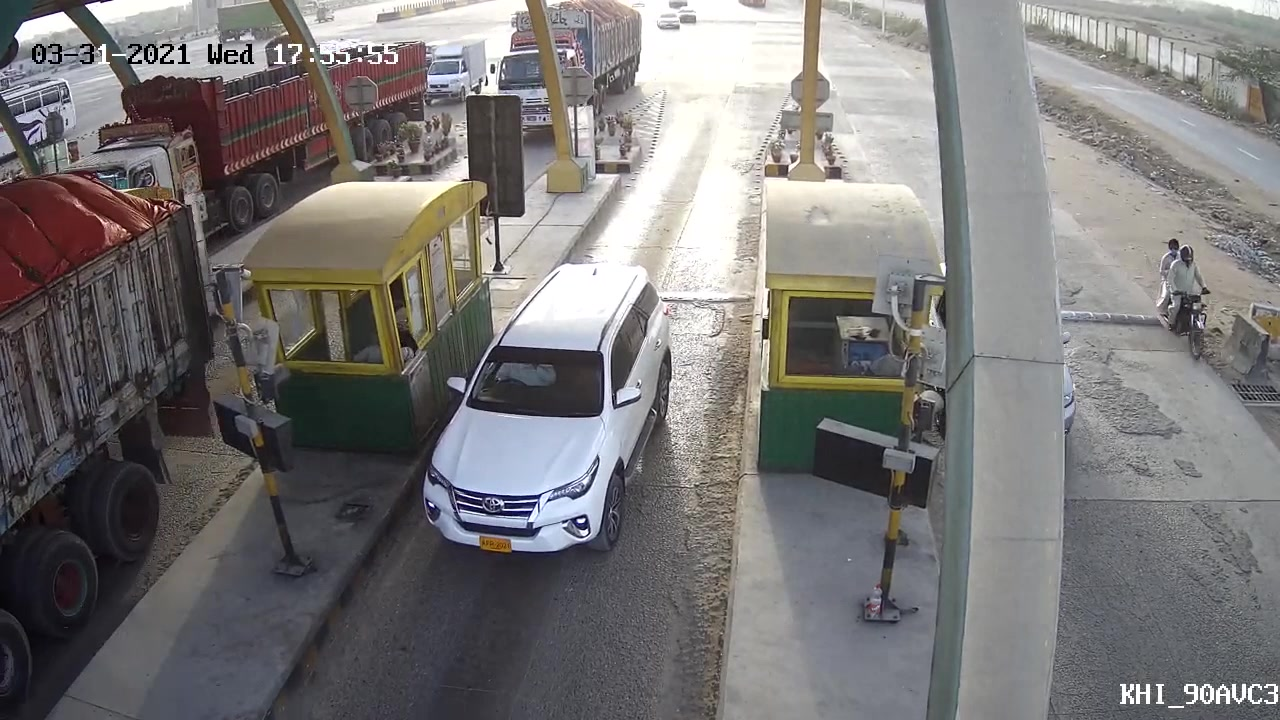F1: (415, 262, 682, 555)
